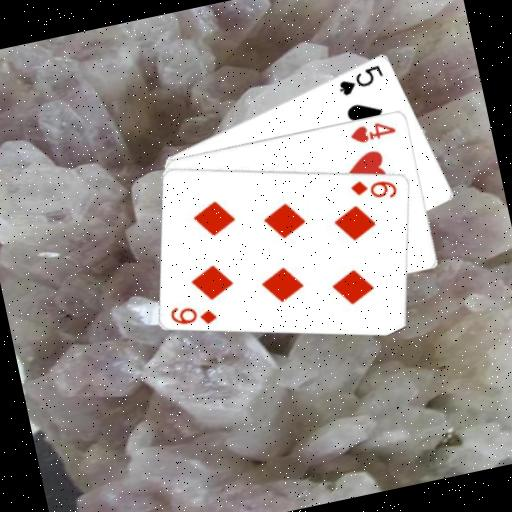4H: (346, 115, 398, 146)
5S: (333, 60, 388, 97)
6D: (346, 169, 400, 206), (165, 295, 219, 332)
